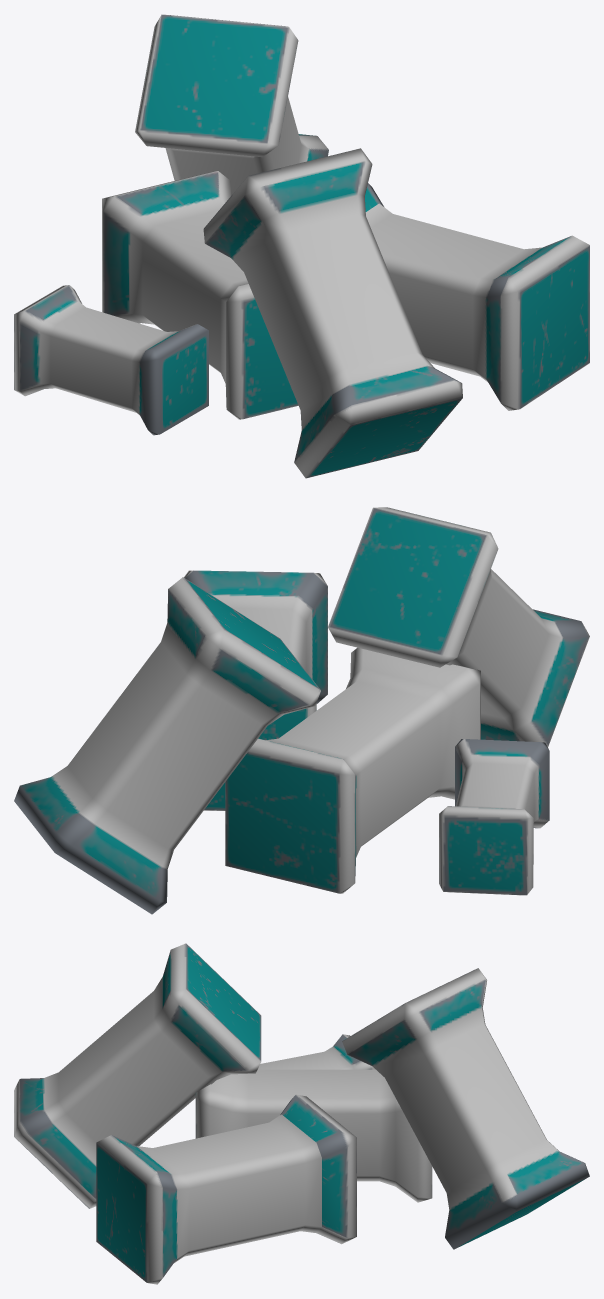
Rendered from SM_Props_48.fbx.
The picture shows the model from 3 angles, top to bottom: view 1: azimuth 30°, elevation 25°; view 2: azimuth 150°, elevation 25°; view 3: azimuth 270°, elevation 25°; orthographic projection. The views are drawn at different scales.
Visible parts, largest first — view 1: SM_Props_48; view 2: SM_Props_48; view 3: SM_Props_48.
Boxes of the visible parts, left/top/right/bottom form: SM_Props_48: left=14, top=14, right=589, bottom=478; SM_Props_48: left=14, top=507, right=589, bottom=914; SM_Props_48: left=14, top=943, right=589, bottom=1284.
Size of the model in its own units: 50.19 by 65.2 by 28.8.
Materials: 1 (1 with a texture image).
